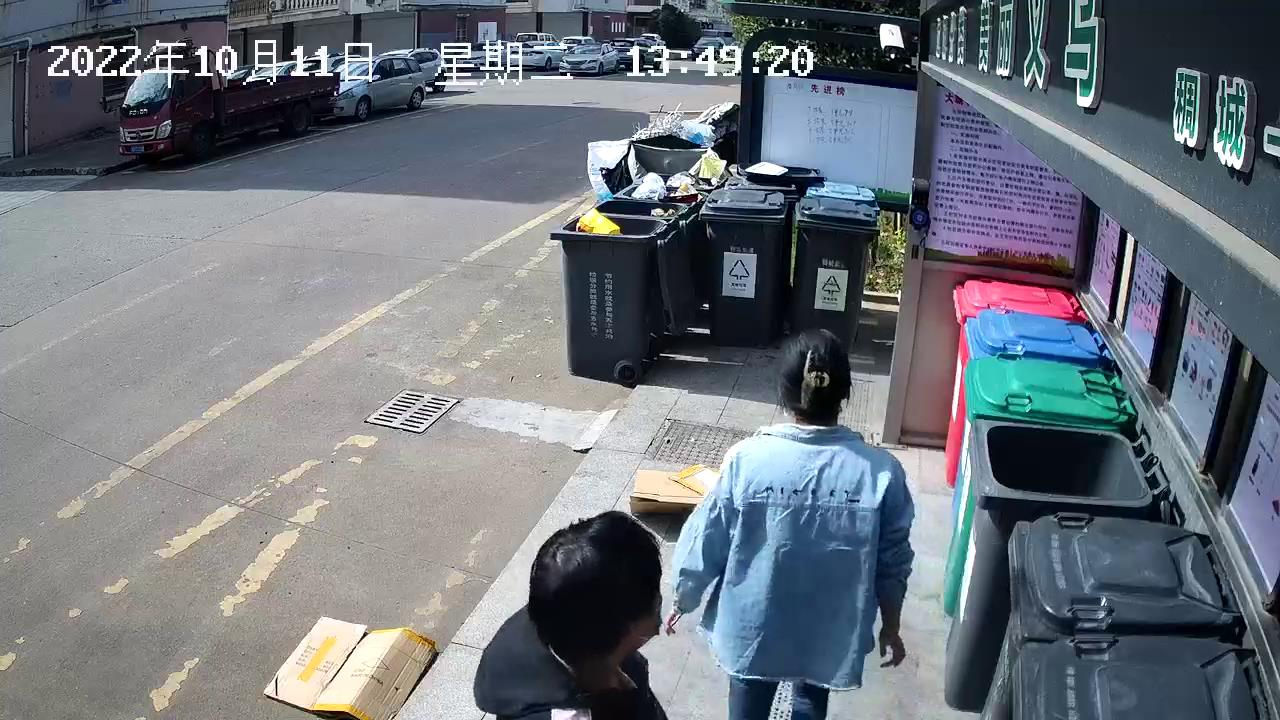person: (467, 505, 675, 720)
worker: (663, 320, 924, 720)
zhizhipin: (259, 609, 441, 720), (625, 461, 729, 522)
